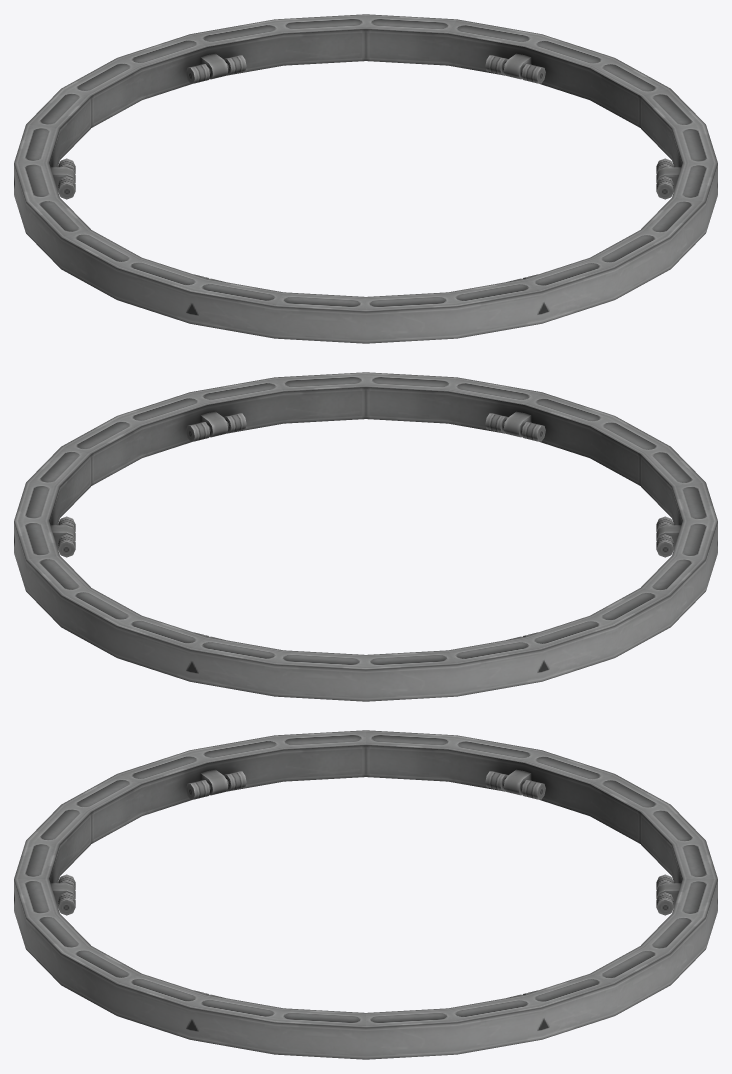
File: castor_decoupler_s2_1.obj
3 renders of one model, top to bottom at view 1: azimuth 30°, elevation 25°; view 2: azimuth 150°, elevation 25°; view 3: azimuth 270°, elevation 25°, orthographic.
Visible parts, largest first — view 1: castor_decoupler_s2_1; view 2: castor_decoupler_s2_1; view 3: castor_decoupler_s2_1.
Boxes of the visible parts, x1=… form: castor_decoupler_s2_1: x1=14, y1=14, x2=717, y2=343; castor_decoupler_s2_1: x1=14, y1=372, x2=717, y2=701; castor_decoupler_s2_1: x1=14, y1=730, x2=717, y2=1059.
Size of the model in its own units: 2.5 by 0.125 by 2.5.
